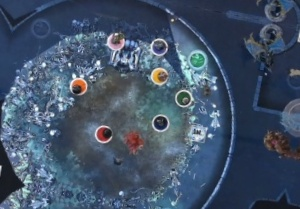blue: (145, 111, 170, 134)
green: (171, 85, 195, 108)
orange: (66, 74, 90, 98)
pink: (105, 27, 127, 51)
red: (90, 120, 116, 147)
violet: (144, 33, 170, 58)
yellow: (147, 62, 171, 88)
